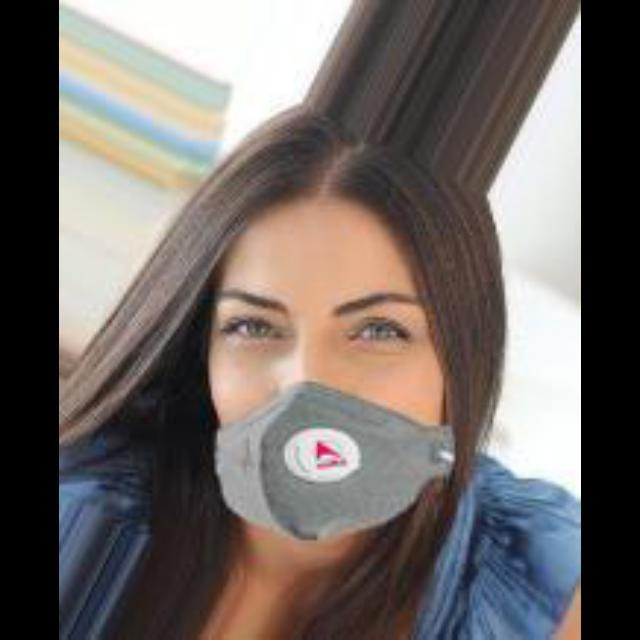suspicion: (158, 126, 460, 552)
